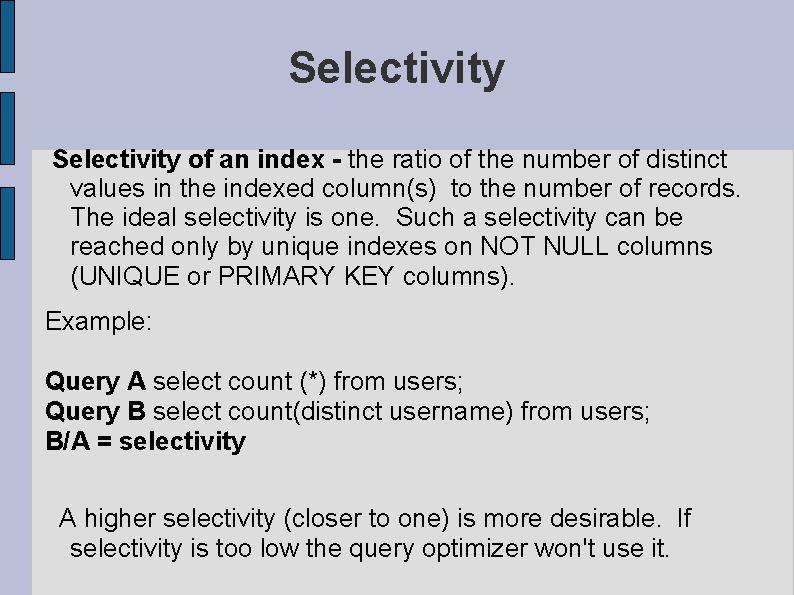paragraph: (45, 138, 758, 298), (47, 489, 722, 577), (154, 350, 672, 426)
subtitle: (47, 135, 328, 176), (40, 424, 254, 464), (40, 389, 152, 427), (41, 357, 150, 394)
title: (288, 43, 509, 97)
